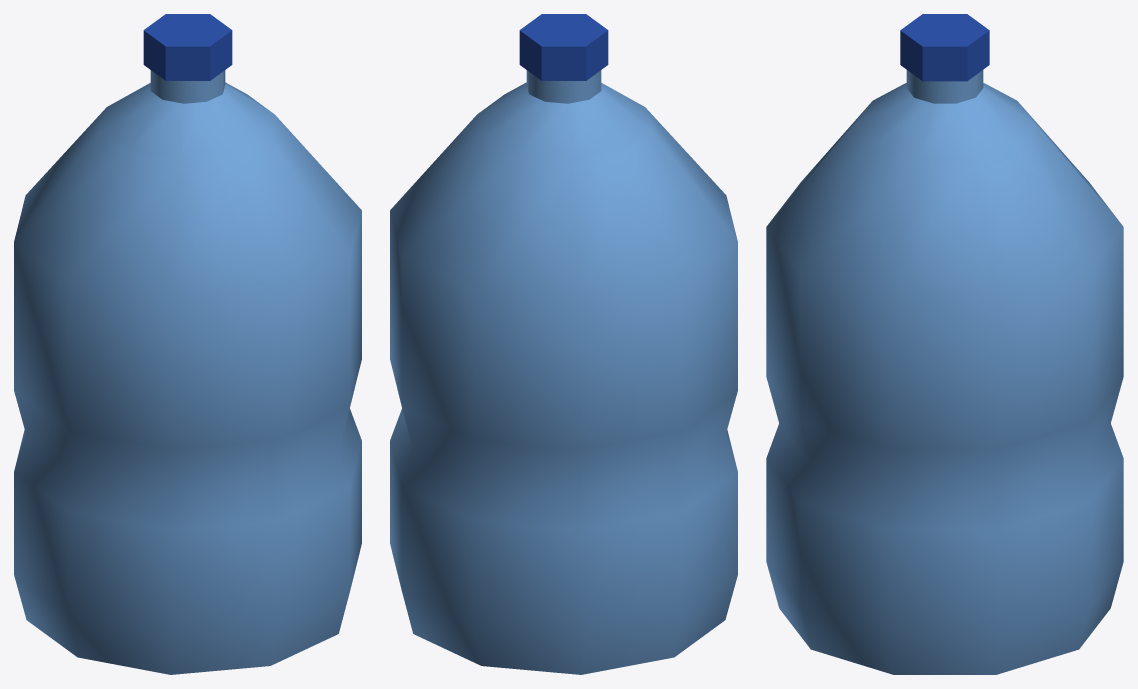
Rendered from garrafao_agua.glb.
3 views of the same model, side by side, from view 1: azimuth 30°, elevation 25°; view 2: azimuth 150°, elevation 25°; view 3: azimuth 270°, elevation 25° (orthographic).
Visible parts, largest first — view 1: Inteiro; view 2: Inteiro; view 3: Inteiro.
Boxes of the visible parts, left/top/right/bottom form: Inteiro: left=14, top=14, right=361, bottom=674; Inteiro: left=390, top=14, right=737, bottom=674; Inteiro: left=766, top=14, right=1123, bottom=674.
Bounding box in the file's own units: 0.2663 × 0.5 × 0.28.
1 material, 1 textured.
